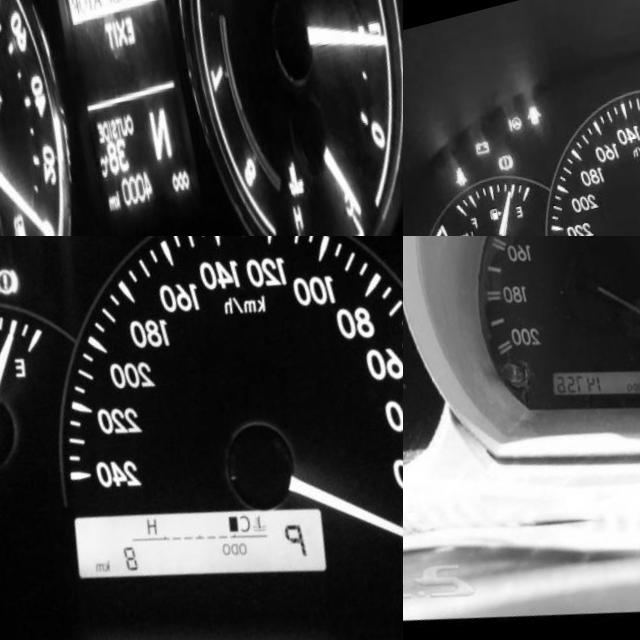Electronic Power Steering: (499, 125, 514, 143), (9, 236, 37, 245)
Seat Belt: (444, 172, 458, 193)
